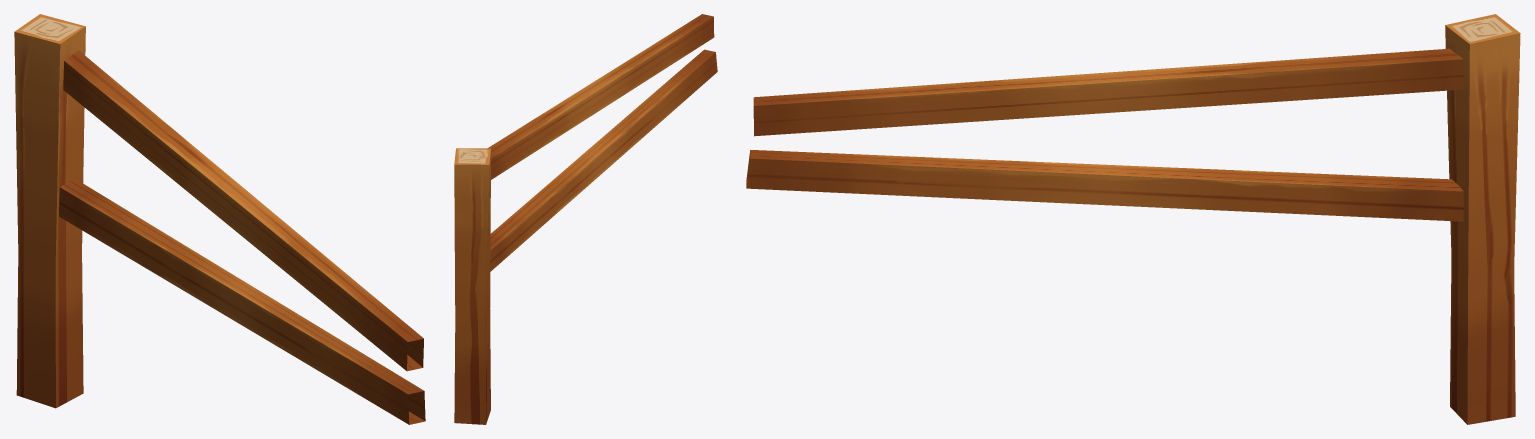
Rendered from port_fence_1.fbx.
The picture shows the model from 3 angles, left to right: view 1: azimuth 30°, elevation 25°; view 2: azimuth 150°, elevation 25°; view 3: azimuth 270°, elevation 25°; orthographic projection. The views are drawn at different scales.
Parts seen in each view (by area): view 1: port_fence_1; view 2: port_fence_1; view 3: port_fence_1.
Boxes of the visible parts, x1,y1,x2,y2 form: port_fence_1: (14,14,425,424); port_fence_1: (454,14,717,424); port_fence_1: (746,14,1520,424).
Bounding box in the file's own units: 65.51 × 386 × 709.
